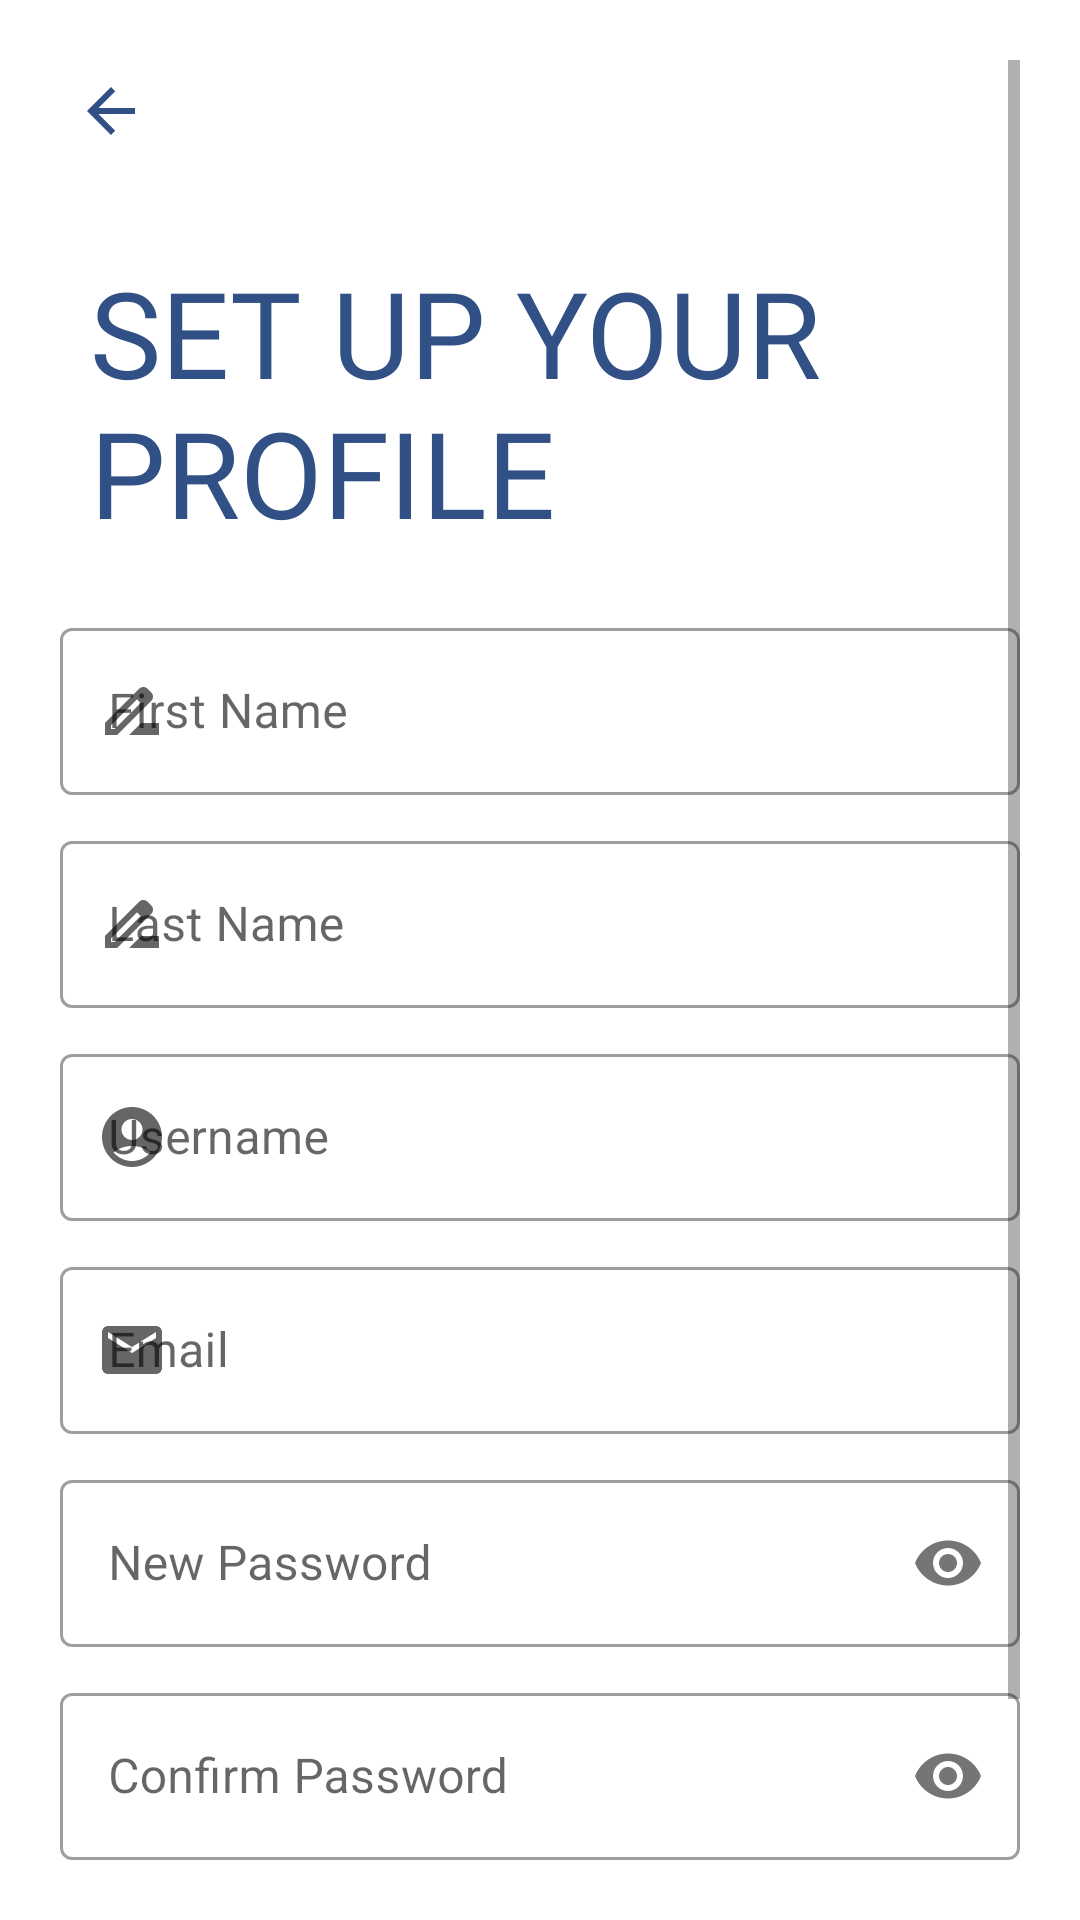

Icon bounding boxes for this 1080px x 1920px phone screenshot, format (x1=x1, y1=y1, x2=x2, y2=y2):
back: (x1=87, y1=87, x2=135, y2=135)
